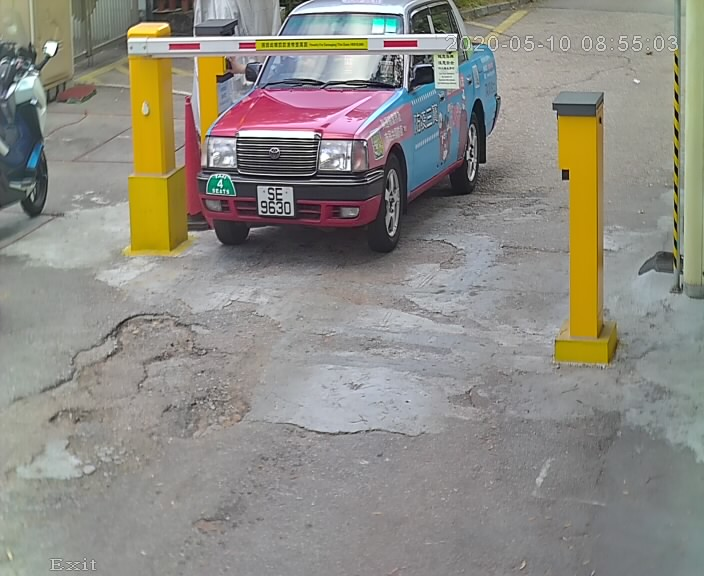taxi: (161, 2, 513, 282)
taxi_mark: (200, 168, 247, 207)
